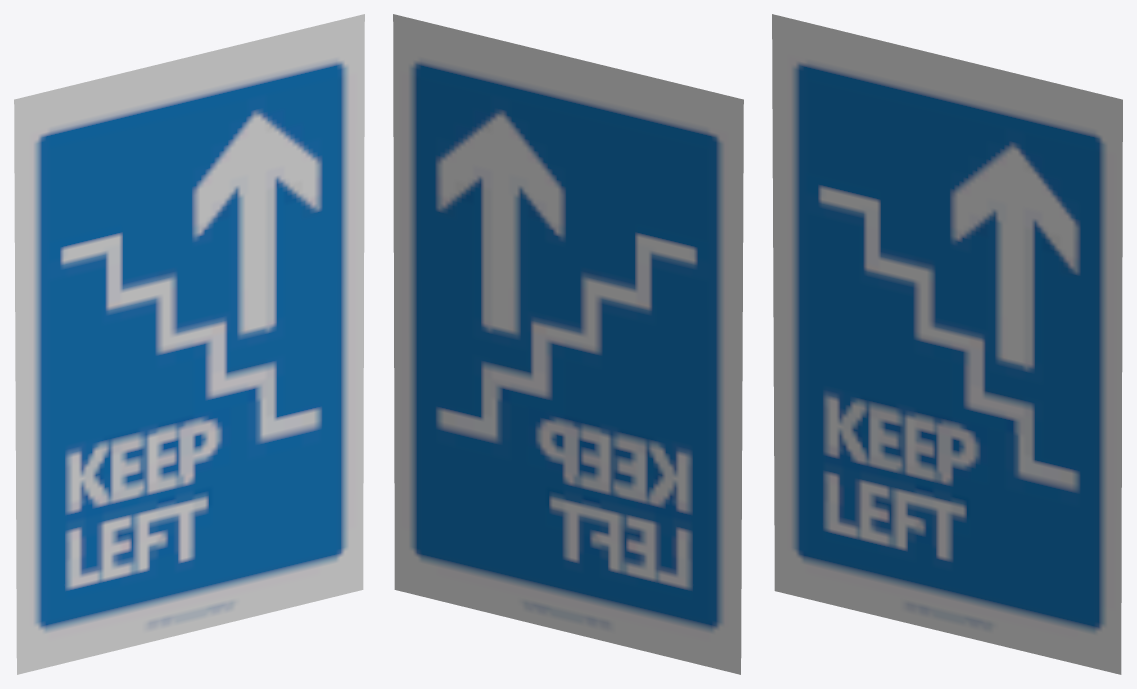
The model's file is SM_Sign_Keep_Left_01.glb.
The picture shows the model from 3 angles, left to right: view 1: azimuth 30°, elevation 25°; view 2: azimuth 150°, elevation 25°; view 3: azimuth 330°, elevation 25°; orthographic projection.
Visible parts, largest first — view 1: SM_Sign_Keep_Left_01; view 2: SM_Sign_Keep_Left_01; view 3: SM_Sign_Keep_Left_01.
Part boxes in pixels (x1=…): SM_Sign_Keep_Left_01: x1=14, y1=14, x2=364, y2=674; SM_Sign_Keep_Left_01: x1=393, y1=14, x2=743, y2=674; SM_Sign_Keep_Left_01: x1=772, y1=14, x2=1122, y2=674.
Bounding box in the file's own units: 0.1728 × 0.2712 × 4.38e-08.
1 material, 1 textured.
